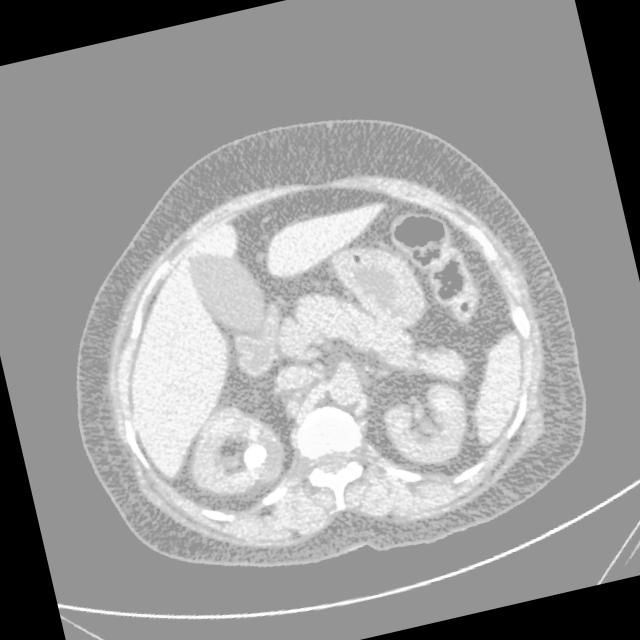STONE: (162, 192, 552, 515)
